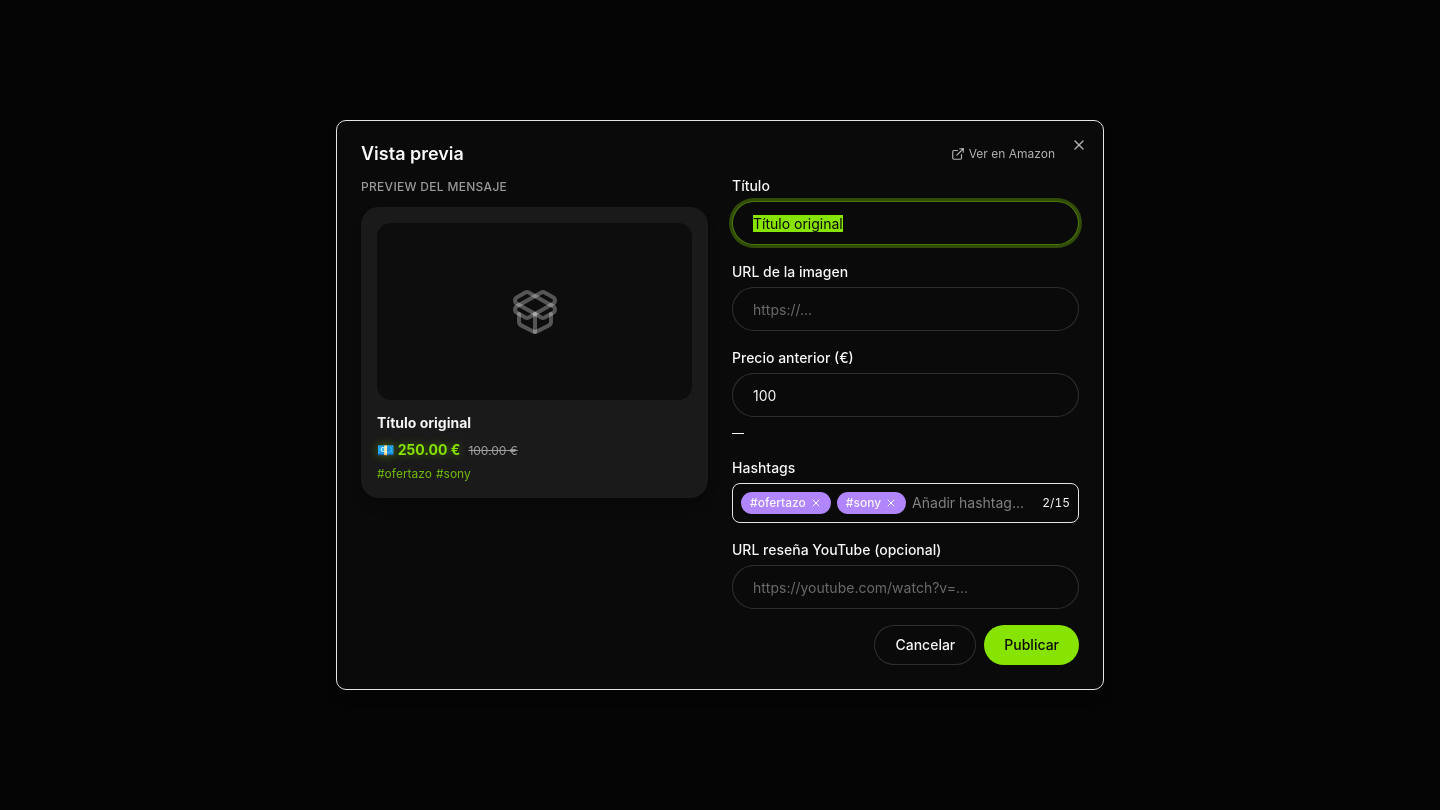
Scenario: TelegramPreviewDialog — editable title (A1) › (t) empty title disables the Publicar button
Clear the field labelled "Título" at {"x": 906, "y": 223}, box [732,201,1079,245]
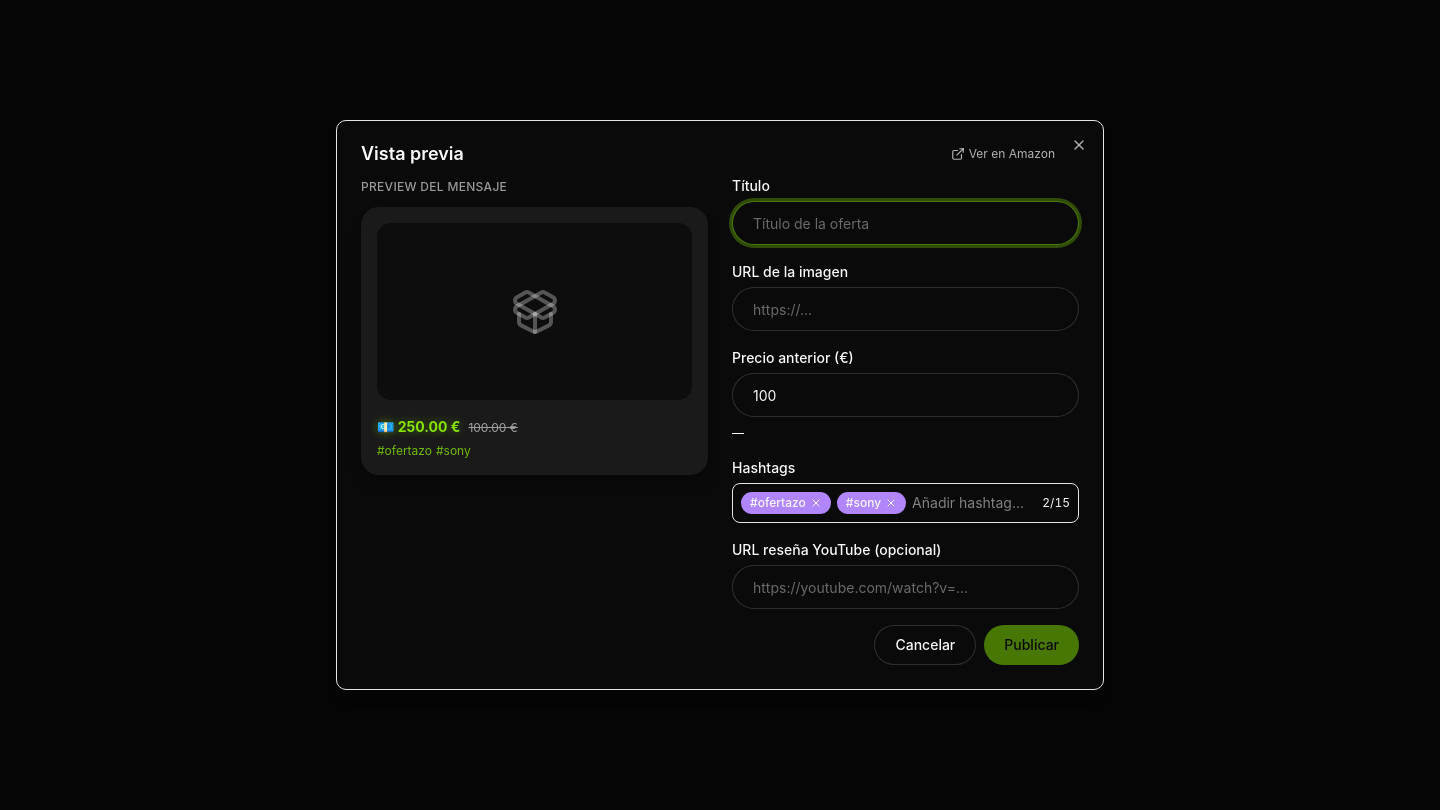
Now the button "Publicar" is disabled, box [984,625,1079,665]
